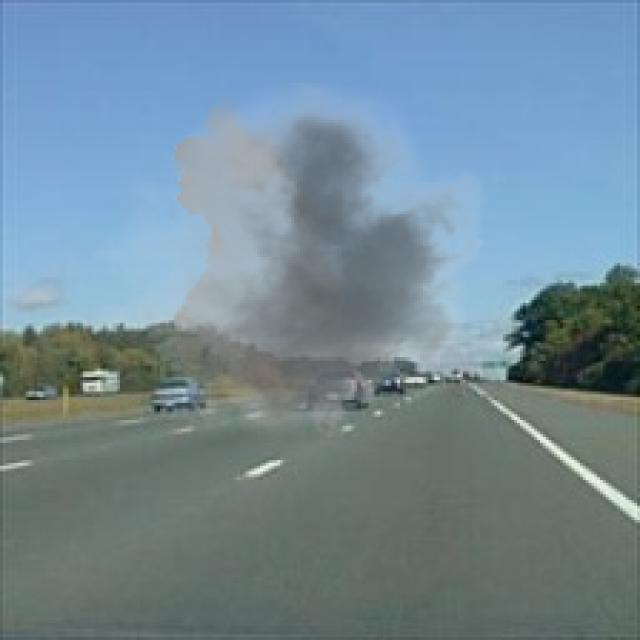smoke: (88, 80, 506, 451)
